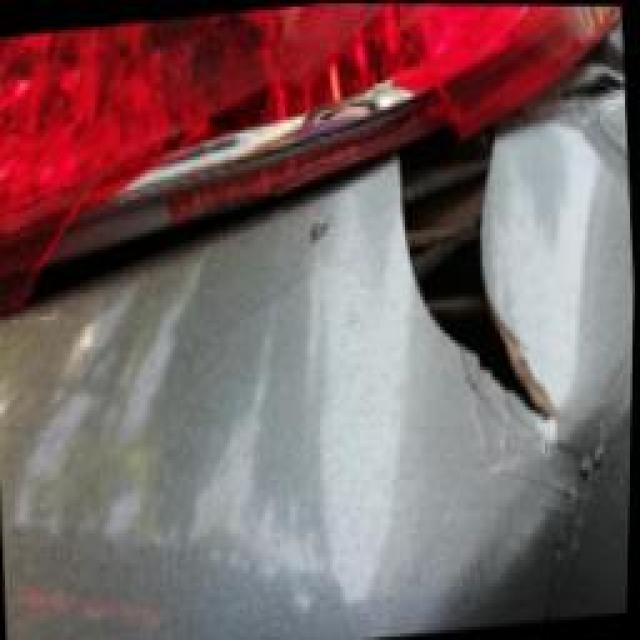Bumper: (330, 87, 639, 579)
